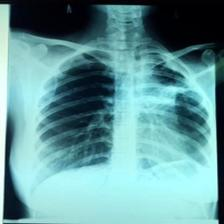tuberculosis: (32, 38, 216, 182)
